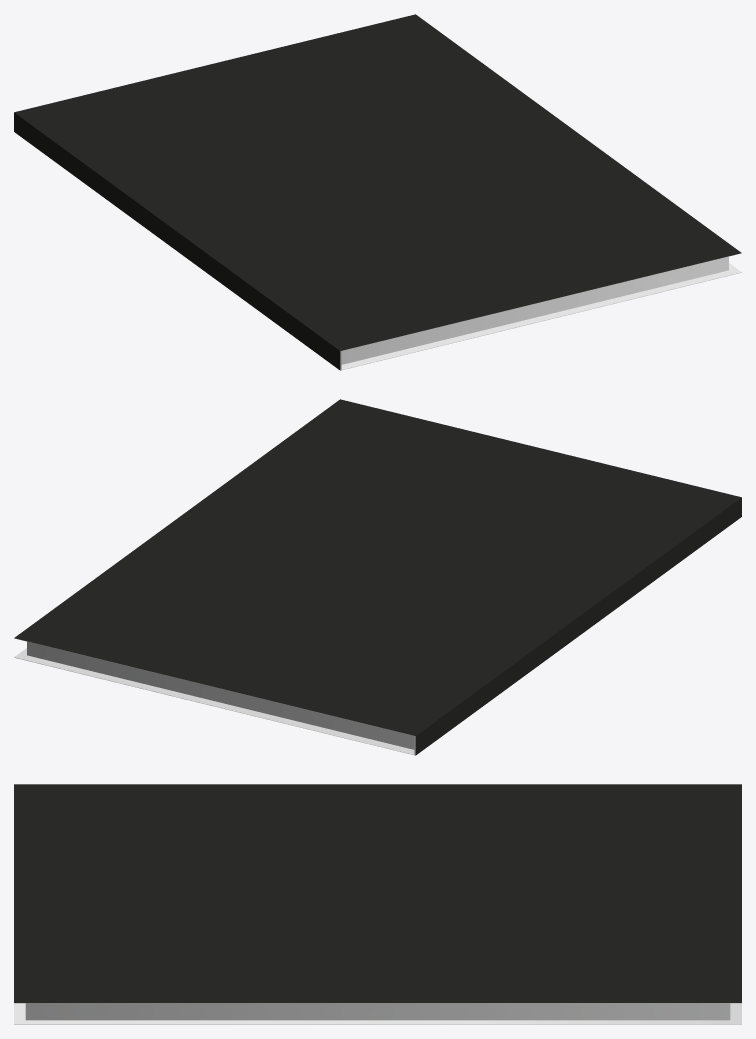
File: Book_08.fbx
The picture shows the model from 3 angles, top to bottom: view 1: azimuth 30°, elevation 25°; view 2: azimuth 150°, elevation 25°; view 3: azimuth 270°, elevation 25°; orthographic projection. The views are drawn at different scales.
Visible parts, largest first — view 1: Book_08; view 2: Book_08; view 3: Book_08.
Part boxes in pixels (x1,y1,x2,y2): Book_08: (14,14,741,370); Book_08: (14,399,741,755); Book_08: (14,784,741,1024).
Bounding box in the file's own units: 21.61 × 1 × 30.4.
